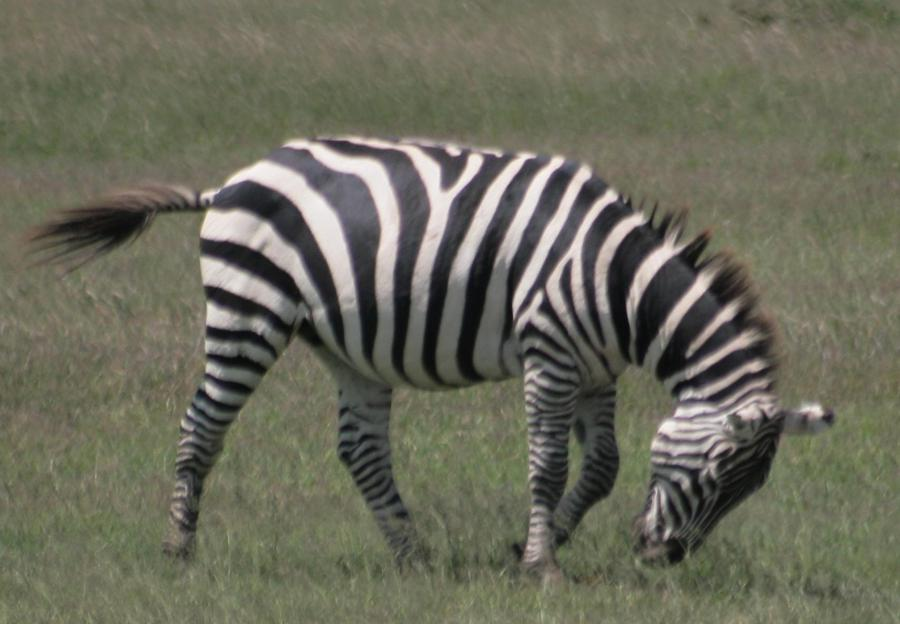zebra_plains: (163, 124, 635, 390)
